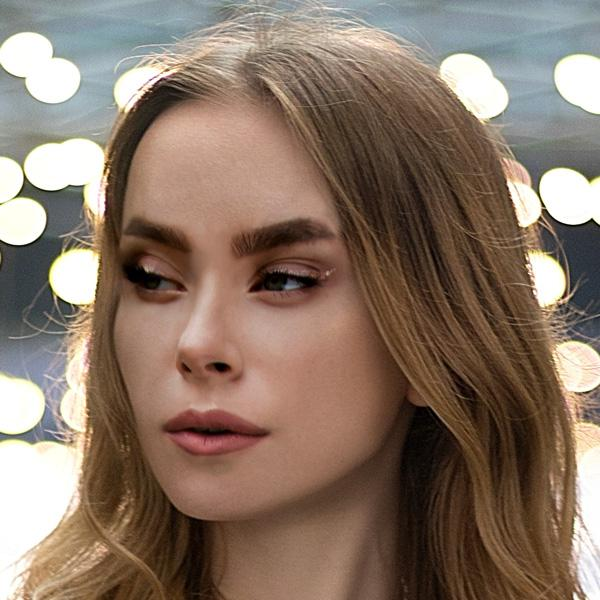Eyes: (236, 249, 334, 311), (118, 246, 194, 310)
